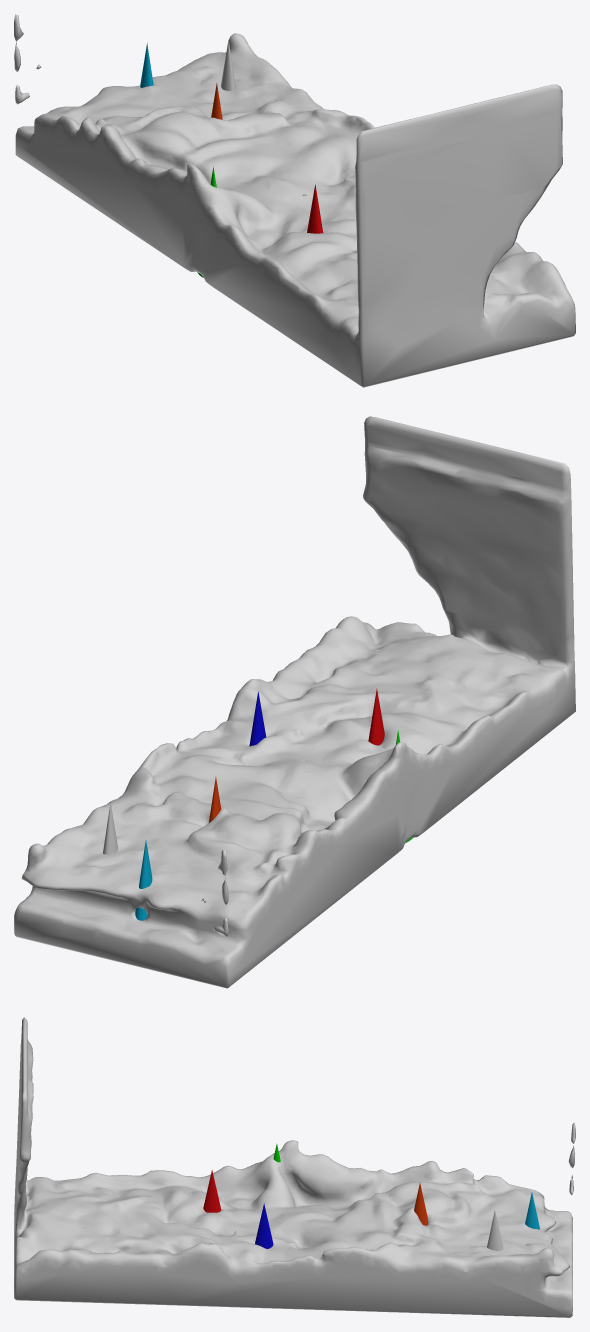
3 renders of one model, top to bottom at view 1: azimuth 30°, elevation 25°; view 2: azimuth 150°, elevation 25°; view 3: azimuth 270°, elevation 25°, orthographic. The views are drawn at different scales.
Visible parts, largest first — view 1: Liquid_Domain; view 2: Liquid_Domain; view 3: Liquid_Domain, 円錐.002, 円錐.001.
Part boxes in pixels (box(x1,y1,x2,y2)): Liquid_Domain: box(14, 14, 575, 387); Liquid_Domain: box(14, 416, 575, 988); Liquid_Domain: box(14, 1017, 575, 1317); 円錐.002: box(255, 1203, 273, 1248); 円錐.001: box(203, 1170, 221, 1212).
Bounding box in the file's own units: 129 × 158 × 363.
